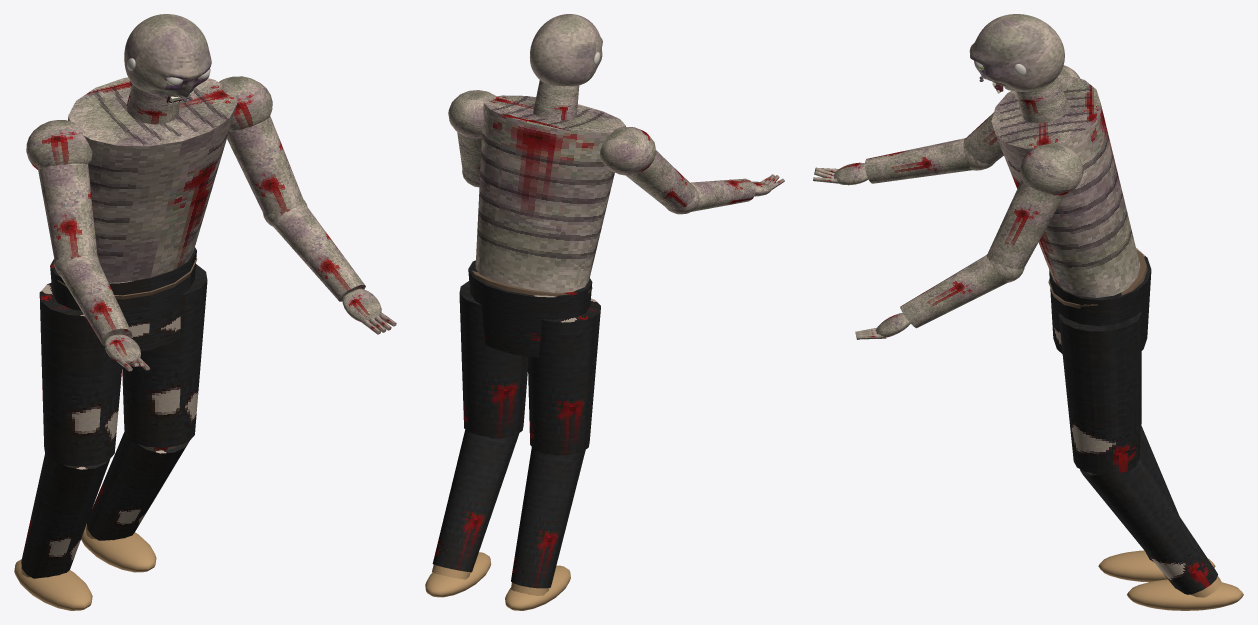
Rendered from Zombie_083.glb.
3 renders of one model, left to right at view 1: azimuth 30°, elevation 25°; view 2: azimuth 150°, elevation 25°; view 3: azimuth 270°, elevation 25°, orthographic. The views are drawn at different scales.
Parts seen in each view (by area): view 1: Zombie_083, object 16, object 10, object 3, object 11, object 4; view 2: Zombie_083, object 16, object 3; view 3: Zombie_083, object 16, object 10, object 3, object 4.
Part boxes in pixels (box(x1,y1,x2,y2)): Zombie_083: box(14, 76, 304, 610); object 16: box(124, 14, 211, 99); object 10: box(272, 205, 365, 301); object 3: box(59, 255, 132, 345); object 11: box(342, 288, 381, 321); object 4: box(104, 334, 140, 362); Zombie_083: box(425, 80, 695, 610); object 16: box(530, 14, 602, 86); object 3: box(690, 178, 755, 211); Zombie_083: box(963, 65, 1243, 610); object 16: box(969, 14, 1064, 91); object 10: box(900, 255, 1007, 328); object 3: box(865, 138, 972, 183); object 4: box(833, 162, 868, 185).
Size of the model in its own units: 0.8485 by 1.73 by 1.17.
Materials: 14 (5 with a texture image).
